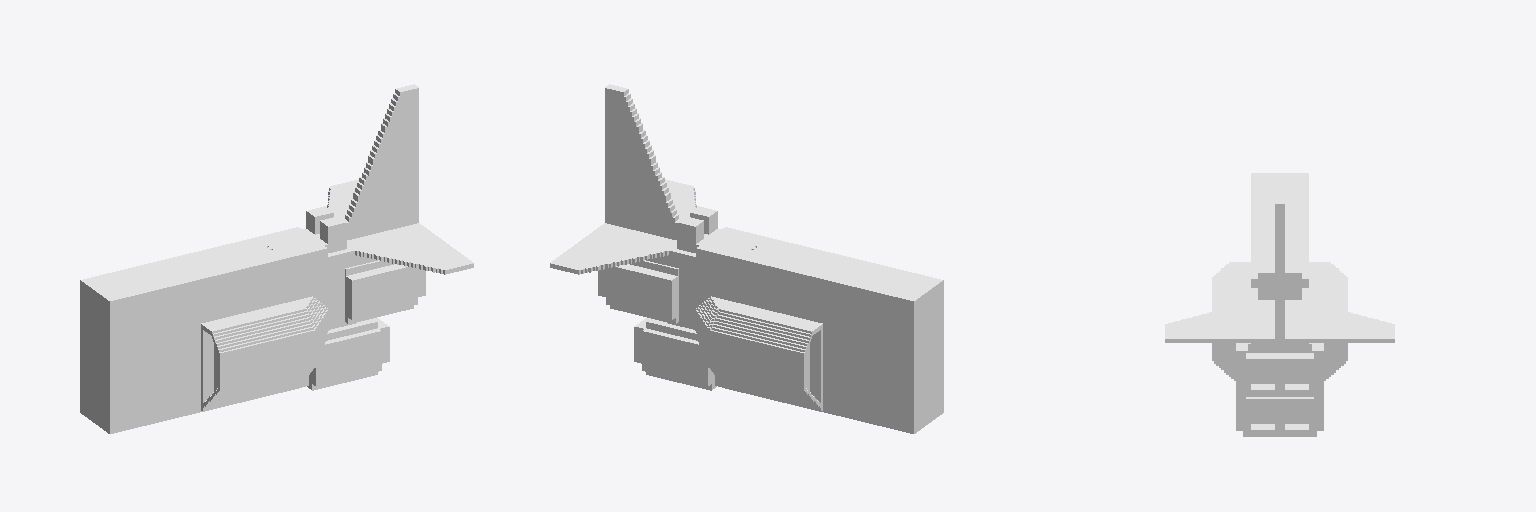
The model's file is military-ship-2.obj.
The picture shows the model from 3 angles: view 1: azimuth 30°, elevation 25°; view 2: azimuth 150°, elevation 25°; view 3: azimuth 270°, elevation 25°; orthographic projection.
Parts seen in each view (by area): view 1: object 1; view 2: object 1; view 3: object 1.
Boxes of the visible parts, <box> form: object 1: <box>80,84,473,433</box>; object 1: <box>550,84,943,433</box>; object 1: <box>1165,173,1394,436</box>.
Bounding box in the file's own units: 15.2 × 11.8 × 9.4.